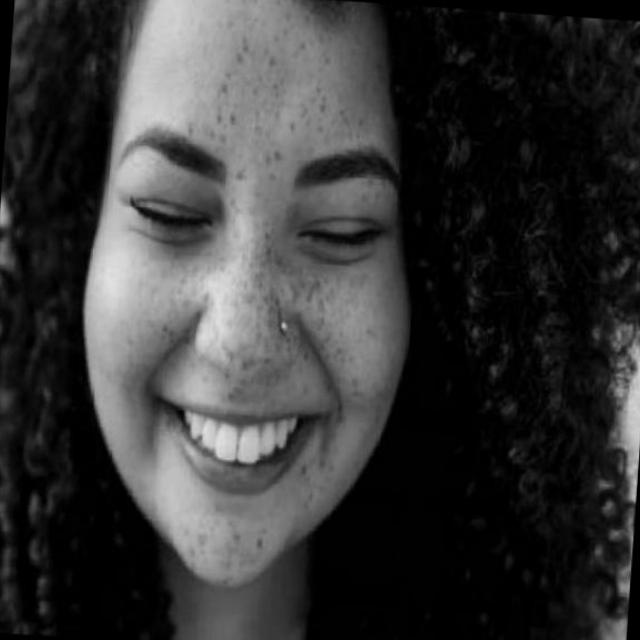Happy: (79, 7, 426, 576)
